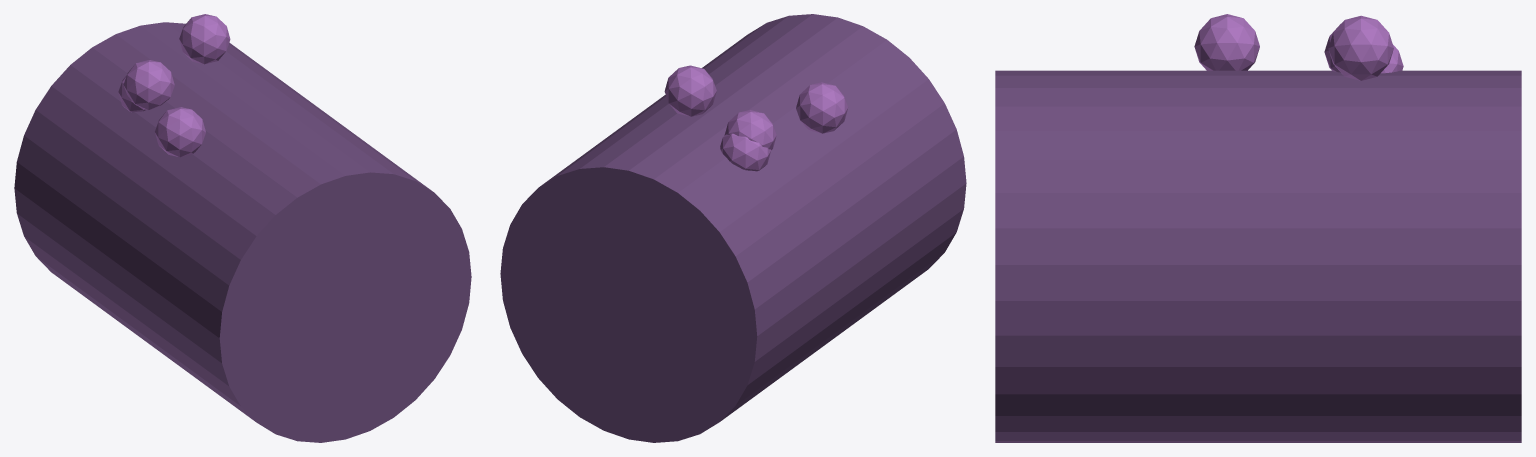
Rendered from deep_nightmare_spawn.glb.
The picture shows the model from 3 angles, left to right: view 1: azimuth 30°, elevation 25°; view 2: azimuth 150°, elevation 25°; view 3: azimuth 270°, elevation 25°; orthographic projection. The views are drawn at different scales.
Visible parts, largest first — view 1: geometry_0; view 2: geometry_0; view 3: geometry_0.
Part boxes in pixels (x1,y1,x2,y2): geometry_0: (14,14,471,442); geometry_0: (500,14,966,442); geometry_0: (995,14,1521,442).
Bounding box in the file's own units: 0.68 × 0.822 × 0.96.
